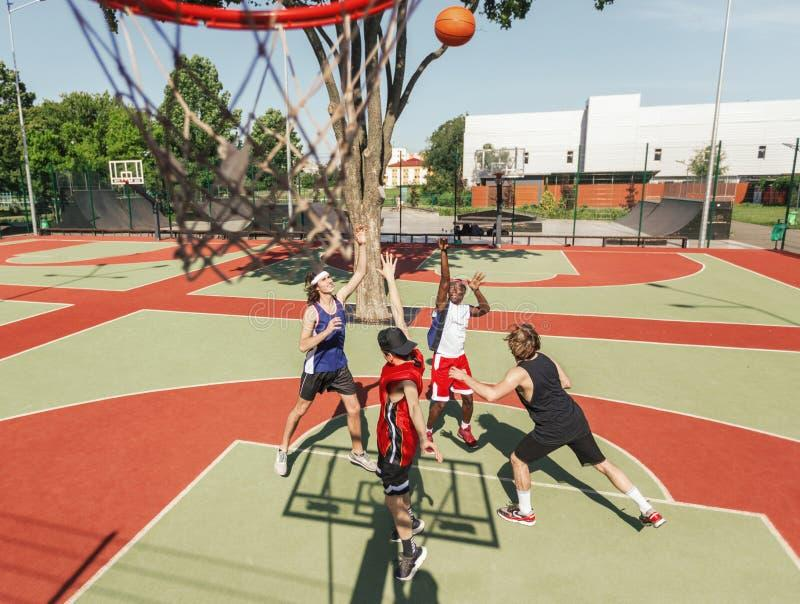basketball: (432, 2, 477, 49)
